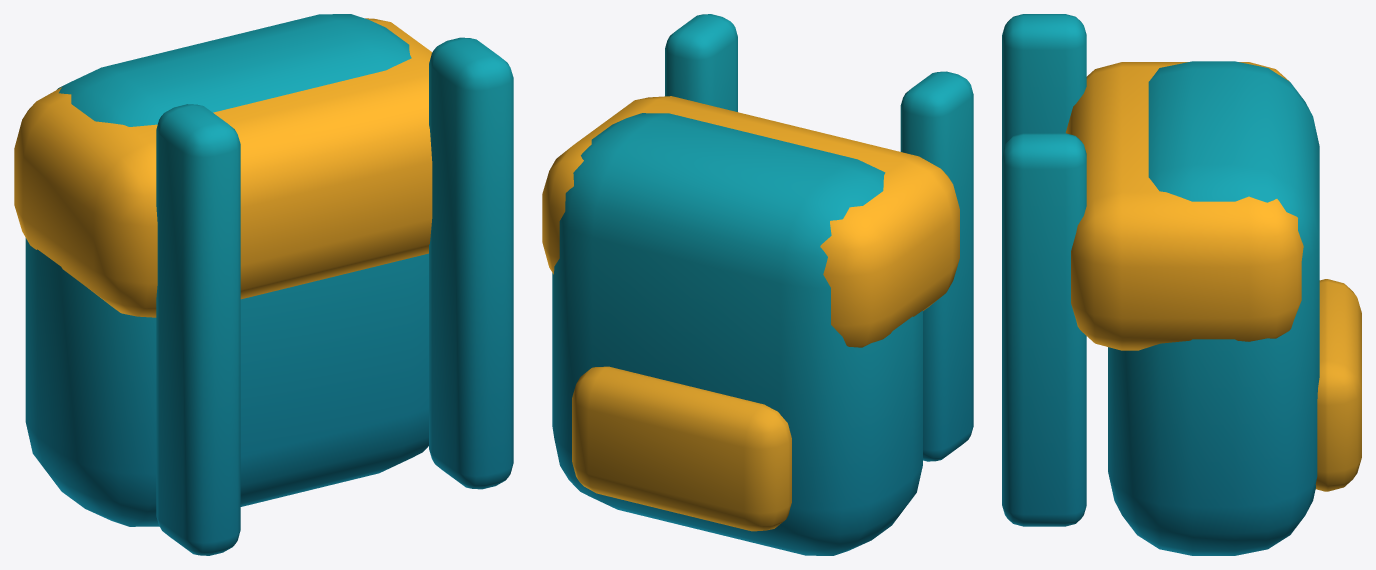
Rendered from acc_backpack.glb.
3 views of the same model, side by side, from view 1: azimuth 30°, elevation 25°; view 2: azimuth 150°, elevation 25°; view 3: azimuth 270°, elevation 25° (orthographic). The views are drawn at different scales.
Visible parts, largest first — view 1: Accessory; view 2: Accessory; view 3: Accessory.
Part boxes in pixels (x1=…): Accessory: x1=14, y1=14, x2=513, y2=555; Accessory: x1=542, y1=14, x2=973, y2=555; Accessory: x1=1002, y1=14, x2=1361, y2=555.
Bounding box in the file's own units: 0.29 × 0.33 × 0.255.
